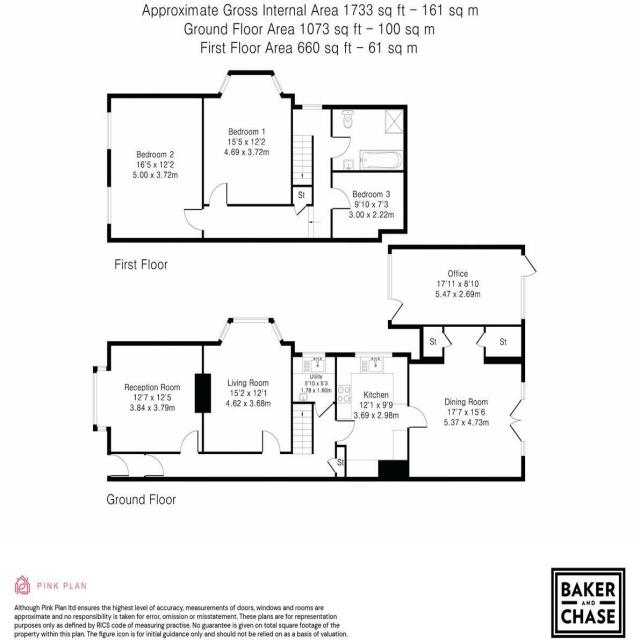DOOR: (407, 405, 428, 429), (335, 419, 356, 443), (330, 186, 351, 210), (330, 135, 351, 159), (261, 429, 281, 454), (208, 182, 228, 207), (183, 208, 204, 231), (180, 430, 199, 454), (314, 401, 334, 419)
ROOM: (407, 324, 525, 482), (107, 93, 204, 243), (92, 341, 205, 454), (202, 317, 295, 454), (202, 70, 295, 207), (335, 352, 427, 482), (330, 170, 408, 243)
WINDOW: (270, 321, 284, 343), (218, 73, 231, 95), (271, 73, 284, 95), (218, 321, 231, 342), (232, 317, 269, 324), (354, 352, 393, 358), (93, 372, 97, 426), (107, 186, 112, 225), (106, 112, 111, 150), (302, 351, 326, 358), (302, 104, 323, 110), (97, 366, 107, 372), (97, 426, 107, 432)
